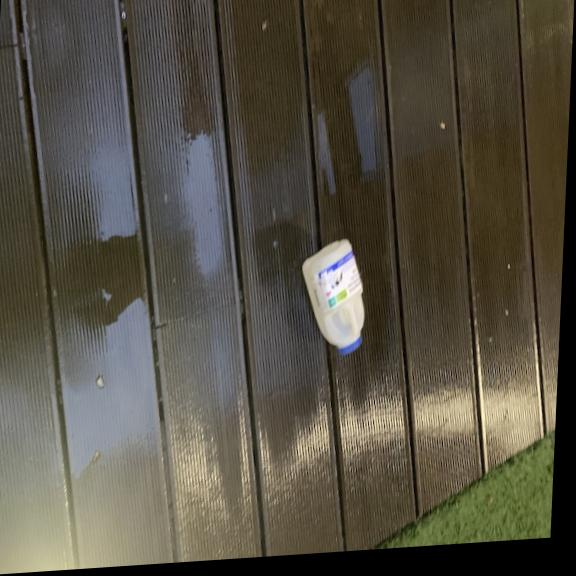Plastik: (295, 239, 371, 360)
